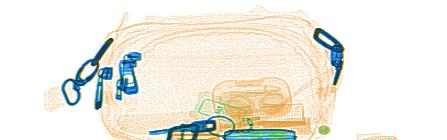plasticBottleWithaNozzle: (217, 101, 304, 128)
